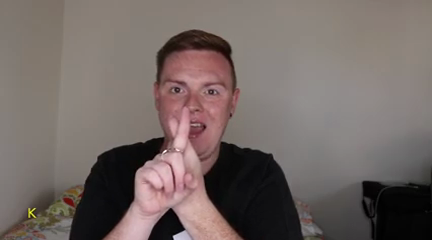K: (131, 105, 208, 209)
